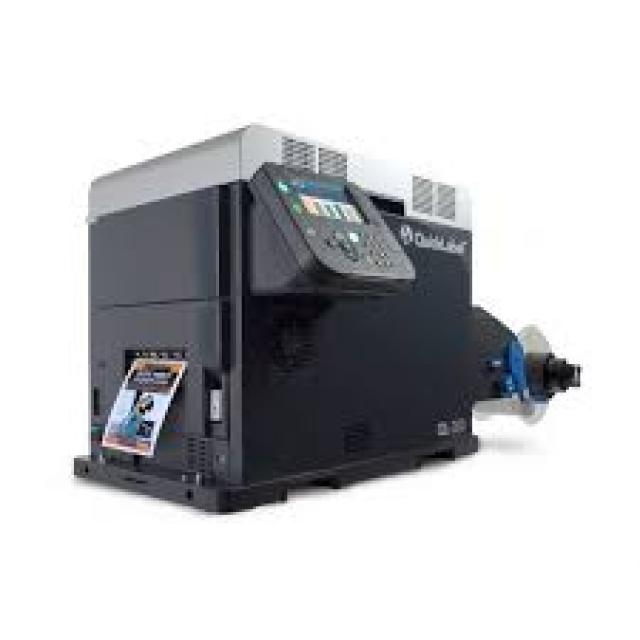printer: (71, 119, 580, 515)
